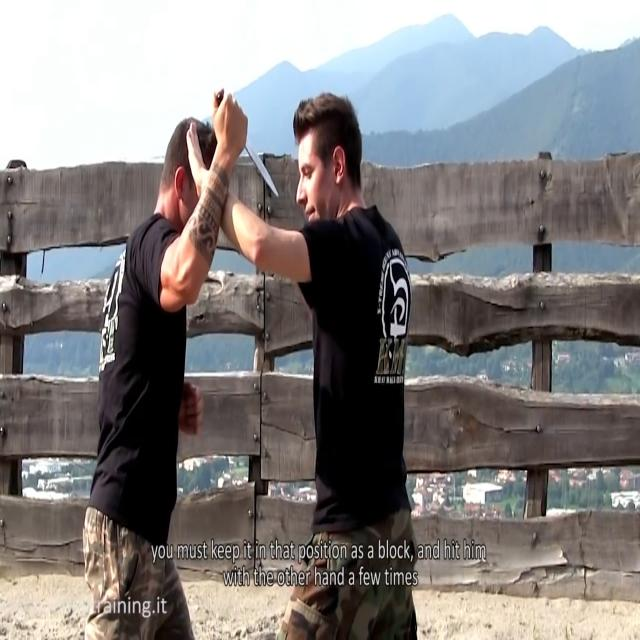knife: (247, 137, 280, 203)
